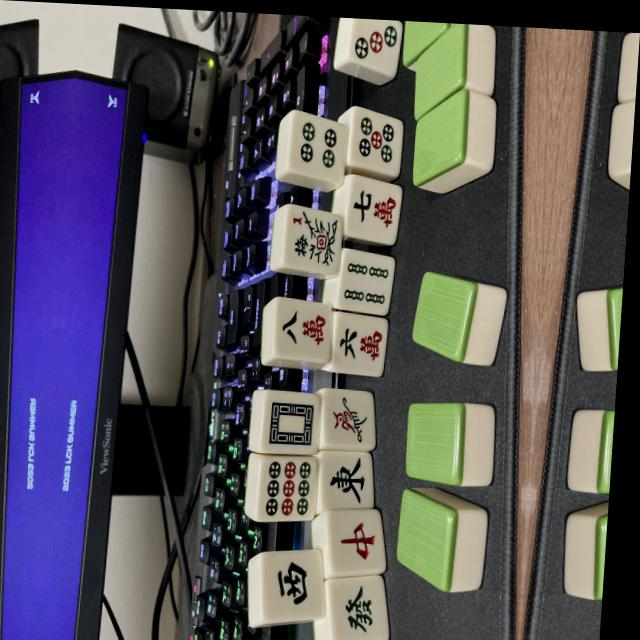bai: (261, 394, 321, 457)
east: (319, 450, 378, 512)
f1: (285, 206, 346, 274)
fa: (322, 572, 390, 640)
m6: (329, 315, 387, 377)
m7: (344, 180, 402, 245)
m8: (271, 297, 334, 362)
s1: (321, 391, 378, 451)
s4: (338, 251, 396, 316)
t3: (344, 18, 403, 77)
t4: (288, 112, 352, 183)
t5: (347, 106, 404, 175)
t9: (254, 456, 319, 528)
west: (258, 547, 331, 629)
zhong: (325, 508, 389, 579)
